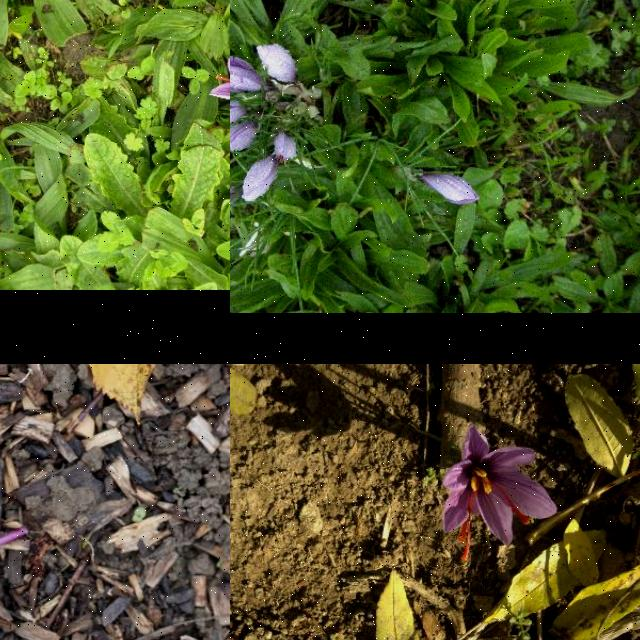flower: (444, 428, 556, 560), (424, 173, 482, 205), (256, 44, 300, 84), (209, 27, 230, 100), (242, 158, 276, 202), (230, 56, 262, 94), (230, 118, 258, 152), (274, 132, 298, 164), (230, 99, 247, 126)
